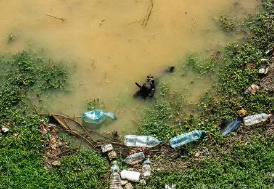garbage: (121, 150, 154, 177), (167, 126, 207, 148), (237, 107, 274, 130), (122, 132, 169, 148), (137, 74, 163, 99), (82, 109, 120, 126), (217, 116, 244, 139), (104, 157, 123, 189), (253, 57, 271, 79), (118, 167, 144, 180), (241, 81, 260, 97), (104, 143, 121, 160)
